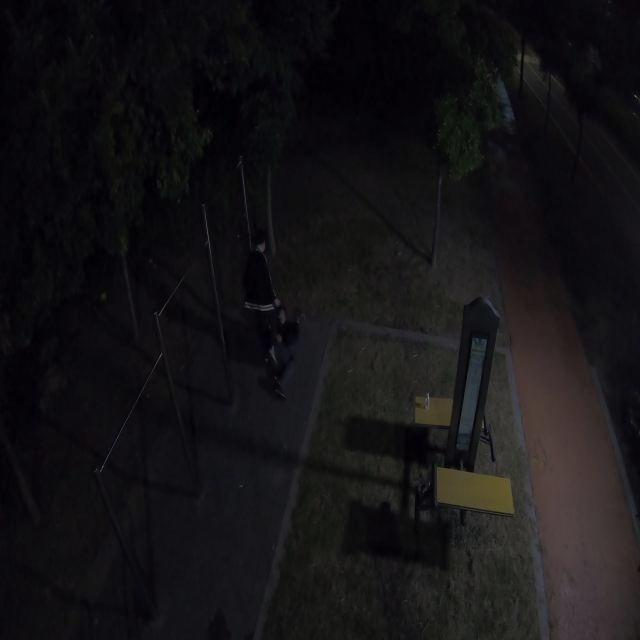fight: (240, 227, 307, 395)
